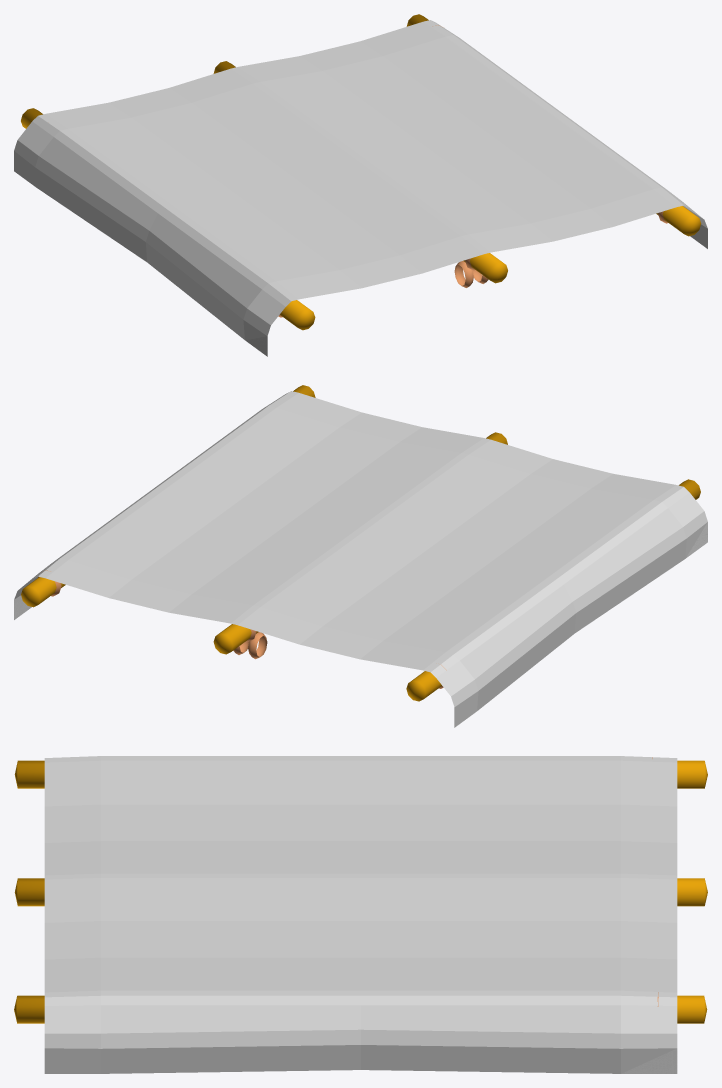
The model's file is m_fesYagura-roof.fbx.
The picture shows the model from 3 angles, top to bottom: view 1: azimuth 30°, elevation 25°; view 2: azimuth 150°, elevation 25°; view 3: azimuth 270°, elevation 25°; orthographic projection. The views are drawn at different scales.
Visible parts, largest first — view 1: mesh_fesYagura-roof_LOD0; view 2: mesh_fesYagura-roof_LOD0; view 3: mesh_fesYagura-roof_LOD0.
Boxes of the visible parts, x1,y1,x2,y2 form: mesh_fesYagura-roof_LOD0: (14, 14, 707, 356); mesh_fesYagura-roof_LOD0: (14, 385, 707, 727); mesh_fesYagura-roof_LOD0: (14, 756, 707, 1073).
Size of what is drawn, in the model's own units: 3.31 by 0.3661 by 3.6.
